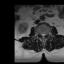CCS_normal: (42, 32, 44, 40)
LFS_stenosis: (46, 32, 48, 37)
LLS_stenosis: (44, 32, 46, 37)
RFS_severe_stenosis: (39, 32, 40, 36)
RLS_stenosis: (40, 32, 42, 37)
